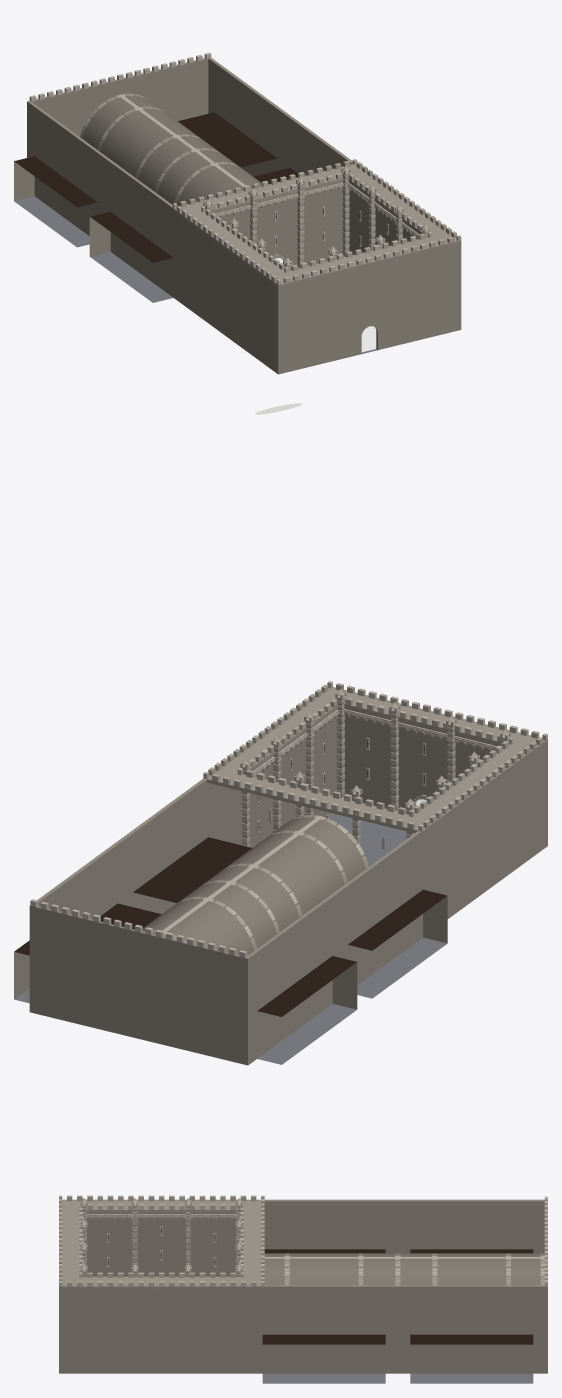
The model's file is chateau.glb.
3 views of the same model, one above another, from view 1: azimuth 30°, elevation 25°; view 2: azimuth 150°, elevation 25°; view 3: azimuth 270°, elevation 25° (orthographic). The views are drawn at different scales.
Size of what is drawn, in the model's own units: 50.38 by 53.76 by 86.81.
